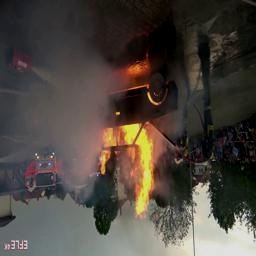fire: (88, 68, 178, 216)
